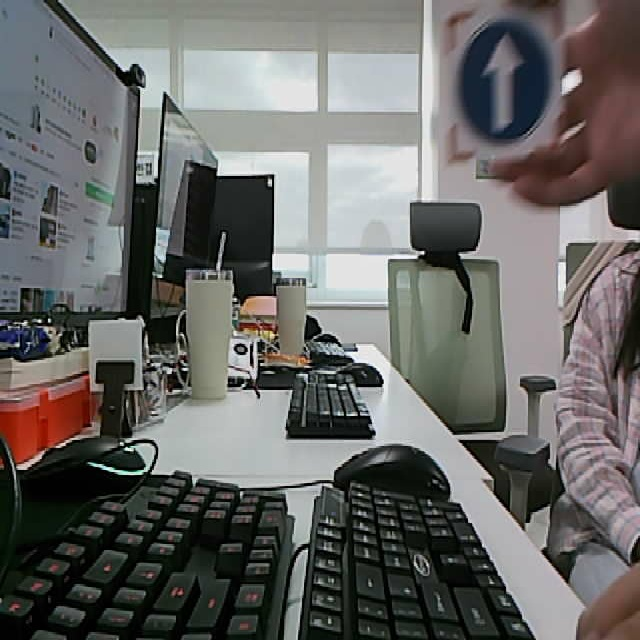straight: (441, 1, 564, 165)
